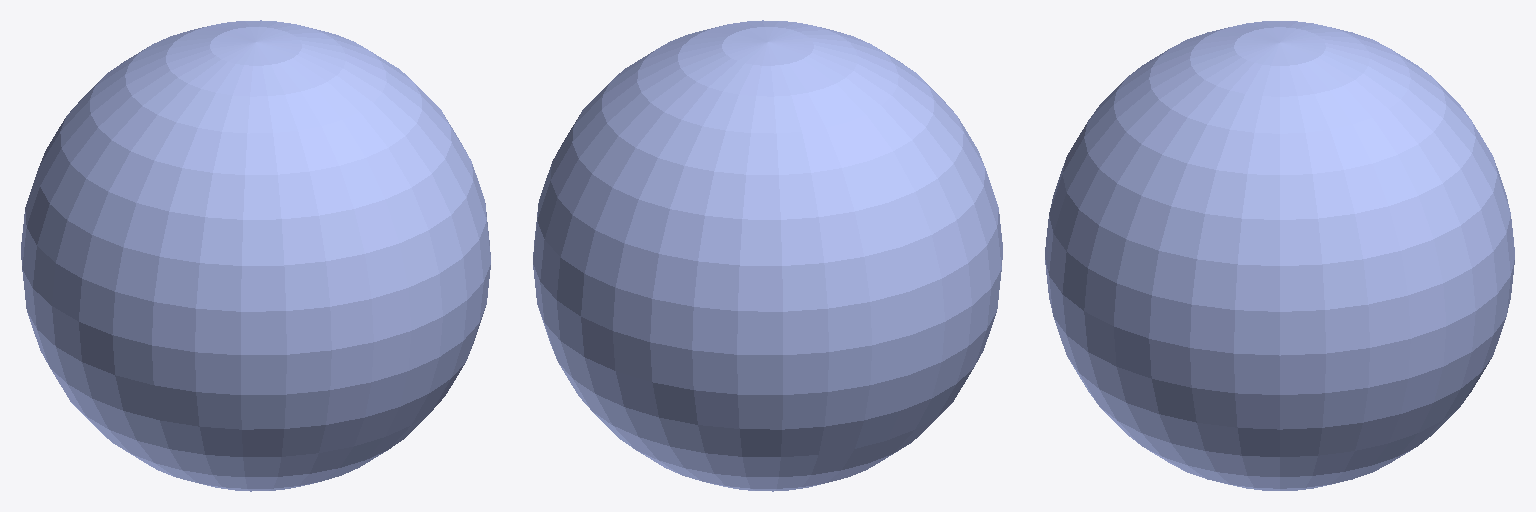
The robot description file, URDF, robot "hand_of_god":
<robot name="hand_of_god">
  <link name="hog">
    <visual>
      <geometry>
        <sphere radius="0.05"/>
      </geometry>
      <material name="white">
        <color rgba="0.75 0.80 1 1"/>
      </material>
    </visual>
  </link>
</robot>

--- What the picture shows (computed from the rendered views, not written in the file) ---
The picture shows the robot from 3 angles, left to right: view 1: azimuth 30°, elevation 25°; view 2: azimuth 150°, elevation 25°; view 3: azimuth 270°, elevation 25°; orthographic projection.
Robot: hand_of_god — 1 links, 0 joints (none); root link hog; default pose: every joint at zero.
Visible links, largest first — view 1: hog; view 2: hog; view 3: hog.
Boxes of the visible links, x1,y1,x2,y2 form: hog: (21, 20, 490, 491); hog: (533, 20, 1002, 491); hog: (1045, 21, 1514, 490).
Size in the robot's own frame: 0.1 by 0.1 by 0.1 metres.
Geometry: primitives only (box / cylinder / sphere), no mesh files.